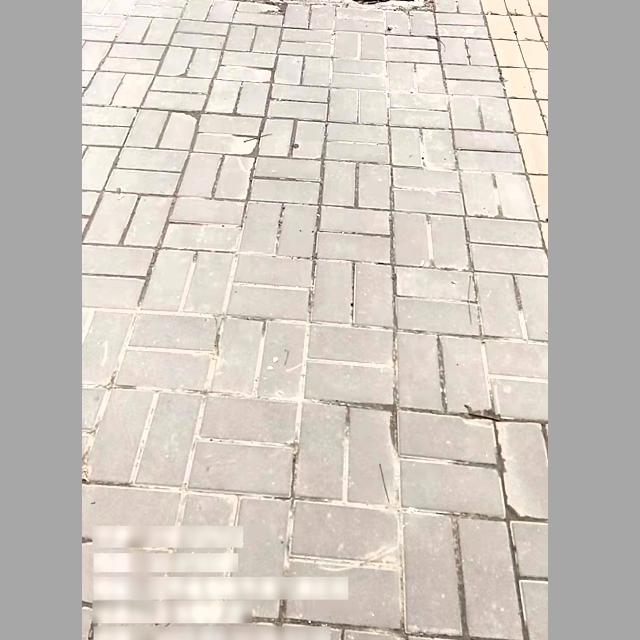uncovered: (239, 0, 423, 12)
